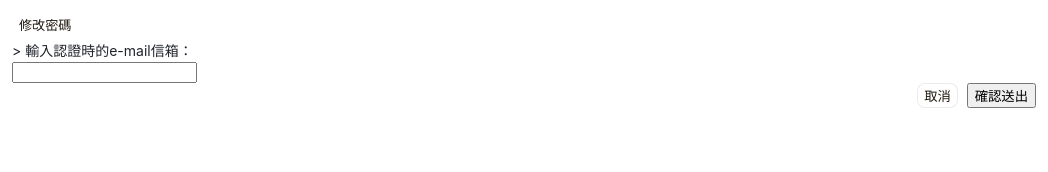
Test: UnconnectedGame_ChangePassword dialog › on error_message: writes the verbatim server text into the inline error label and stays open
The image size is (1048, 172).
Type "user@example.com" into the field with test id "unconnected-game-change-password-email" at [104, 72], box [12,62,197,83]
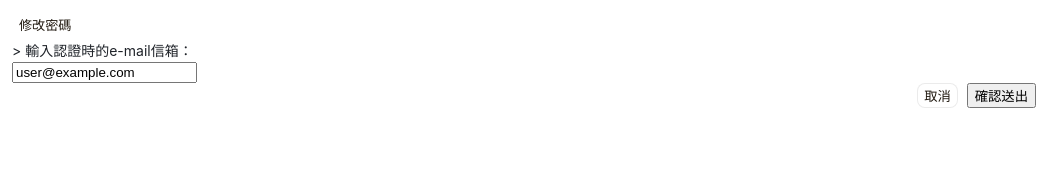
Click the button with test id "unconnected-game-change-password-submit" at [1001, 96], box [967,83,1036,108]
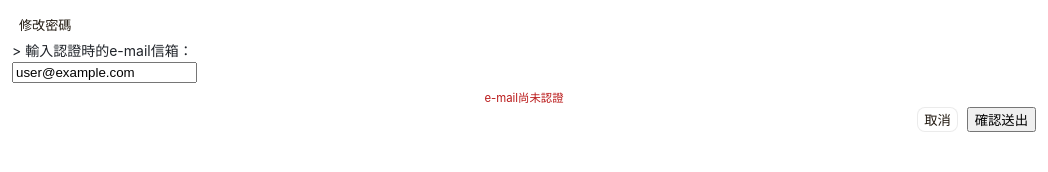
Expected: the message with test id "unconnected-game-change-password-error" reads "e-mail尚未認證", [484,91,564,105]
